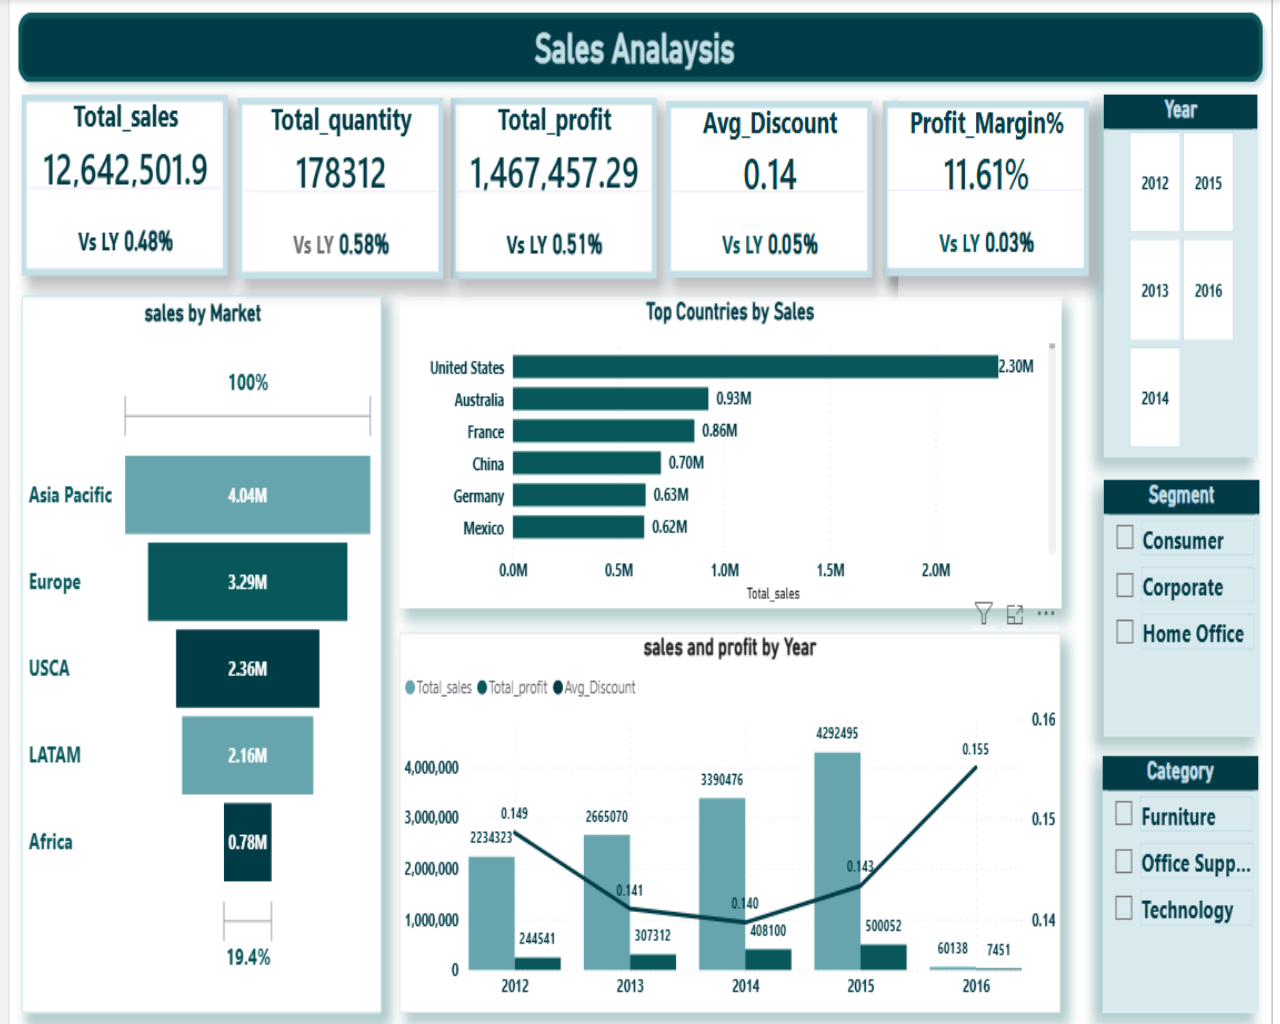

The dashboard page shown, as its layout file describes it:
{"tool":"powerbi","page":{"name":"Sales","canvas":[1280,720],"ordinal":1},"visuals":[{"type":"cardVisual","fields":{"Data":["Measure1_Total.Total_sales"]},"box":[12.1,66.7,209.3,127.4],"z":0},{"type":"shape","box":[0,0,1280,66.7],"z":1000},{"type":"textbox","title":"Sales Analaysis","box":[380.7,16.7,506.5,31.8],"z":2000},{"type":"cardVisual","fields":{"Data":["Measure1_Total.Total_profit"]},"box":[447.4,68.2,209.3,127.4],"z":3000},{"type":"cardVisual","fields":{"Data":["Measure1_Total.Total_quantity"]},"box":[230.5,68.2,209.3,127.4],"z":4000},{"type":"funnel","title":"sales by Market","fields":{"Category":["Location_Dim.Market","Location_Dim.Region"],"Y":["Measure1_Total.Total_sales"]},"box":[12.1,207.8,365.5,503.5],"z":5000},{"type":"lineClusteredColumnComboChart","title":"sales and profit by Year","fields":{"Category":["Date_Dim.Year"],"Y":["Measure1_Total.Total_sales","Measure1_Total.Total_profit"],"Y2":["Measure1_Total.Avg_Discount"]},"box":[395.8,444.4,670.3,266.9],"z":6000},{"type":"slicer","title":"Year","fields":{"Values":["Date_Dim.Year"]},"box":[1110.1,66.7,156.2,254.8],"z":7000},{"type":"slicer","title":"Segment","fields":{"Values":["Customer_Dim.Segment"]},"box":[1110.1,336.7,157.7,180.5],"z":8000},{"type":"slicer","title":"Category","fields":{"Values":["product_Dim.Category"]},"box":[1108.6,530.8,157.7,180.5],"z":9000},{"type":"barChart","title":"Top Countries by Sales","fields":{"Y":["Measure1_Total.Total_sales"],"Category":["Location_Dim.Country"]},"box":[395.6,208.2,671,218.5],"z":10000},{"type":"cardVisual","fields":{"Data":["Measure1_Total.Profit_Margen%"]},"box":[885.7,71.3,209.3,122.8],"z":11000},{"type":"cardVisual","fields":{"Data":["Measure1_Total.Avg_Discount"]},"box":[665.8,71.3,209.3,124.4],"z":12000}]}

Visuals, with their boxes on the page's 1280x720 design canvas (x1, y1, x2, y2). These are canvas units, not pixel positions in the 1280x1024 screenshot, which may show the page scaled, cropped or inside an application window:
cardVisual - Measure1_Total.Total_sales: BBox(12, 67, 221, 194)
shape: BBox(0, 0, 1280, 67)
"Sales Analaysis" textbox: BBox(381, 17, 887, 48)
cardVisual - Measure1_Total.Total_profit: BBox(447, 68, 657, 196)
cardVisual - Measure1_Total.Total_quantity: BBox(230, 68, 440, 196)
"sales by Market" funnel: BBox(12, 208, 378, 711)
"sales and profit by Year" lineClusteredColumnComboChart: BBox(396, 444, 1066, 711)
"Year" slicer: BBox(1110, 67, 1266, 322)
"Segment" slicer: BBox(1110, 337, 1268, 517)
"Category" slicer: BBox(1109, 531, 1266, 711)
"Top Countries by Sales" barChart: BBox(396, 208, 1067, 427)
cardVisual - Measure1_Total.Profit_Margen%: BBox(886, 71, 1095, 194)
cardVisual - Measure1_Total.Avg_Discount: BBox(666, 71, 875, 196)
